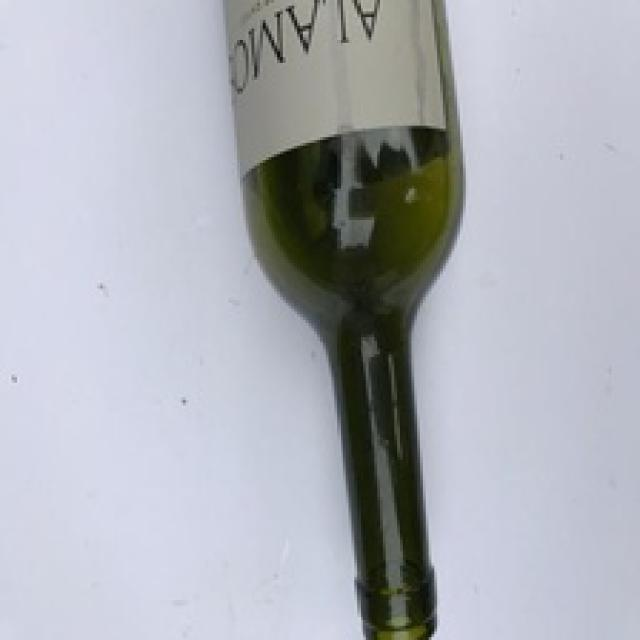Glass: (226, 0, 456, 640)
